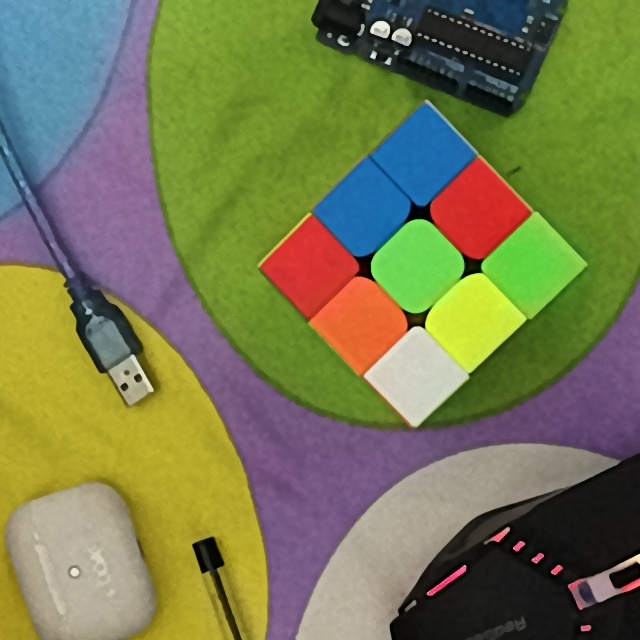tile: (456, 179, 503, 241), (396, 131, 452, 183), (340, 185, 390, 238), (446, 296, 498, 346), (512, 239, 561, 290), (393, 347, 441, 399), (281, 246, 336, 290), (390, 242, 444, 286), (339, 299, 388, 347)
